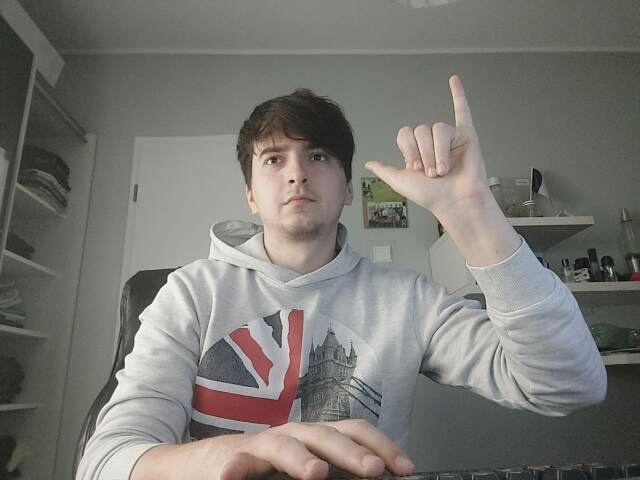play: (365, 76, 487, 204)
